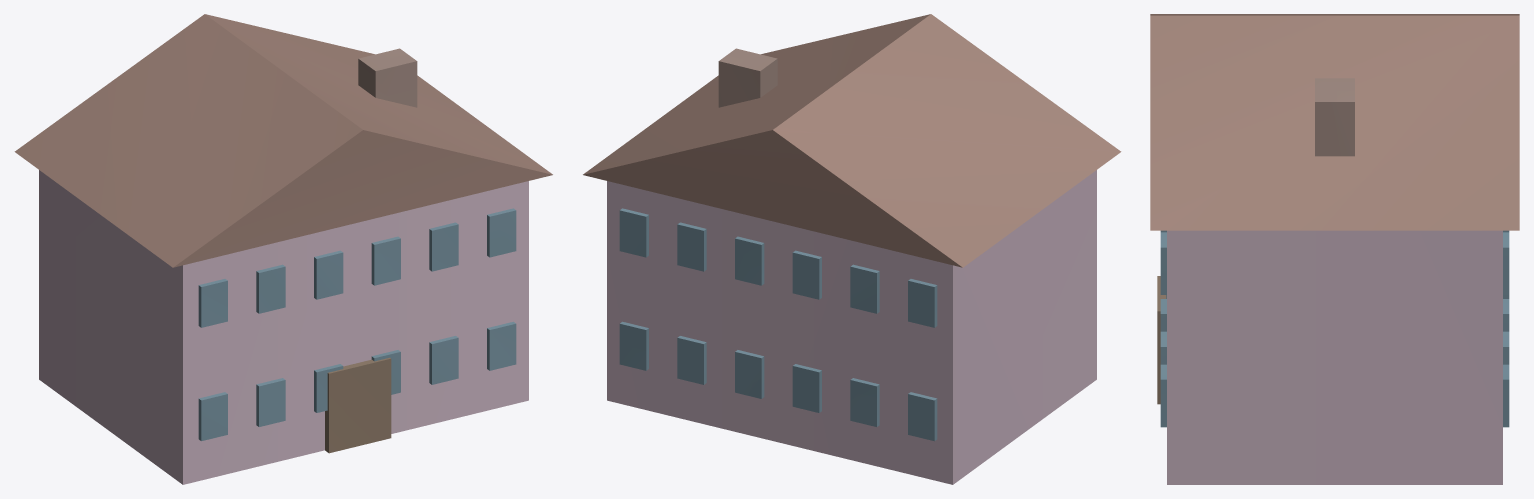
The model's file is barn-04.glb.
3 renders of one model, left to right at view 1: azimuth 30°, elevation 25°; view 2: azimuth 150°, elevation 25°; view 3: azimuth 270°, elevation 25°, orthographic. The views are drawn at different scales.
Visible parts, largest first — view 1: world; view 2: world; view 3: world.
Boxes of the visible parts, x1,y1,x2,y2 form: world: [14, 14, 552, 484]; world: [583, 14, 1121, 484]; world: [1150, 14, 1519, 484].
Bounding box in the file's own units: 2 × 1.6 × 1.44.
